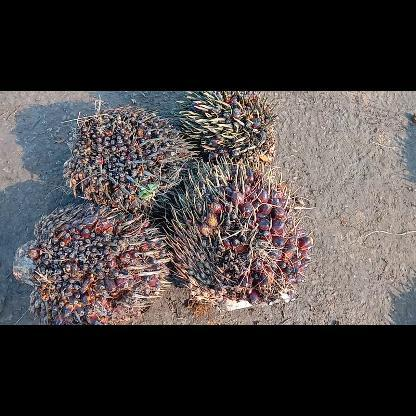TBS abnormal: (10, 198, 172, 324), (60, 102, 200, 216), (172, 92, 280, 172)
TBS masak: (163, 150, 315, 312)
